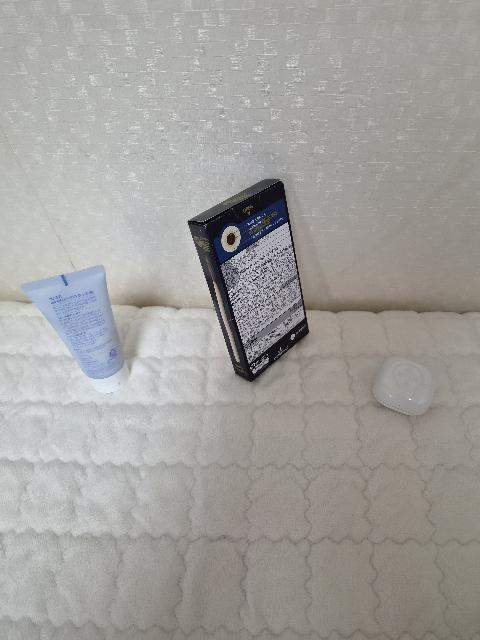earphone_case: (373, 356, 436, 416)
handcream: (21, 264, 130, 393)
pepero: (187, 179, 309, 382)
